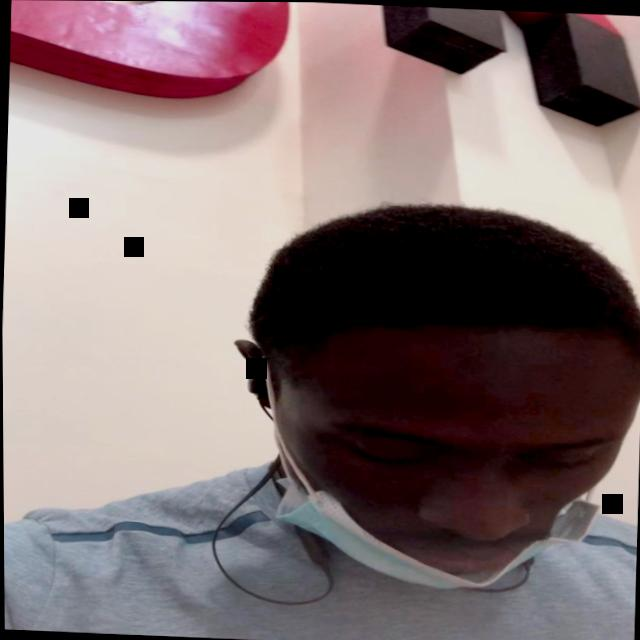NO-Mask: (247, 340, 639, 600)
